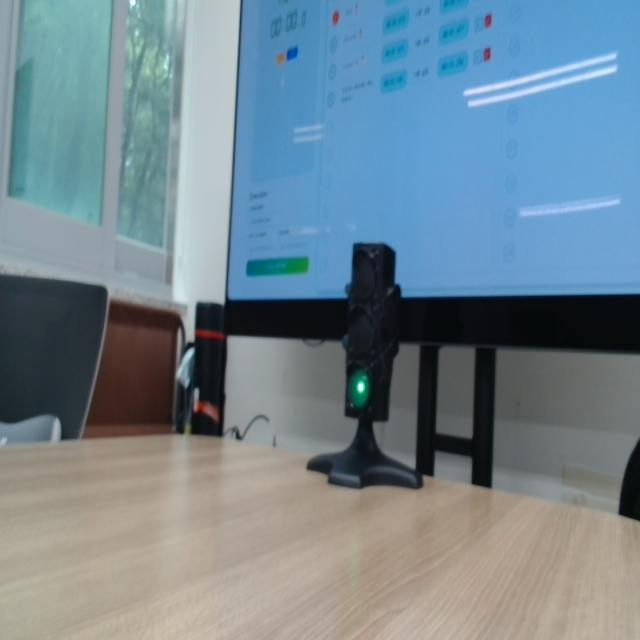green_light: (349, 370, 370, 410)
